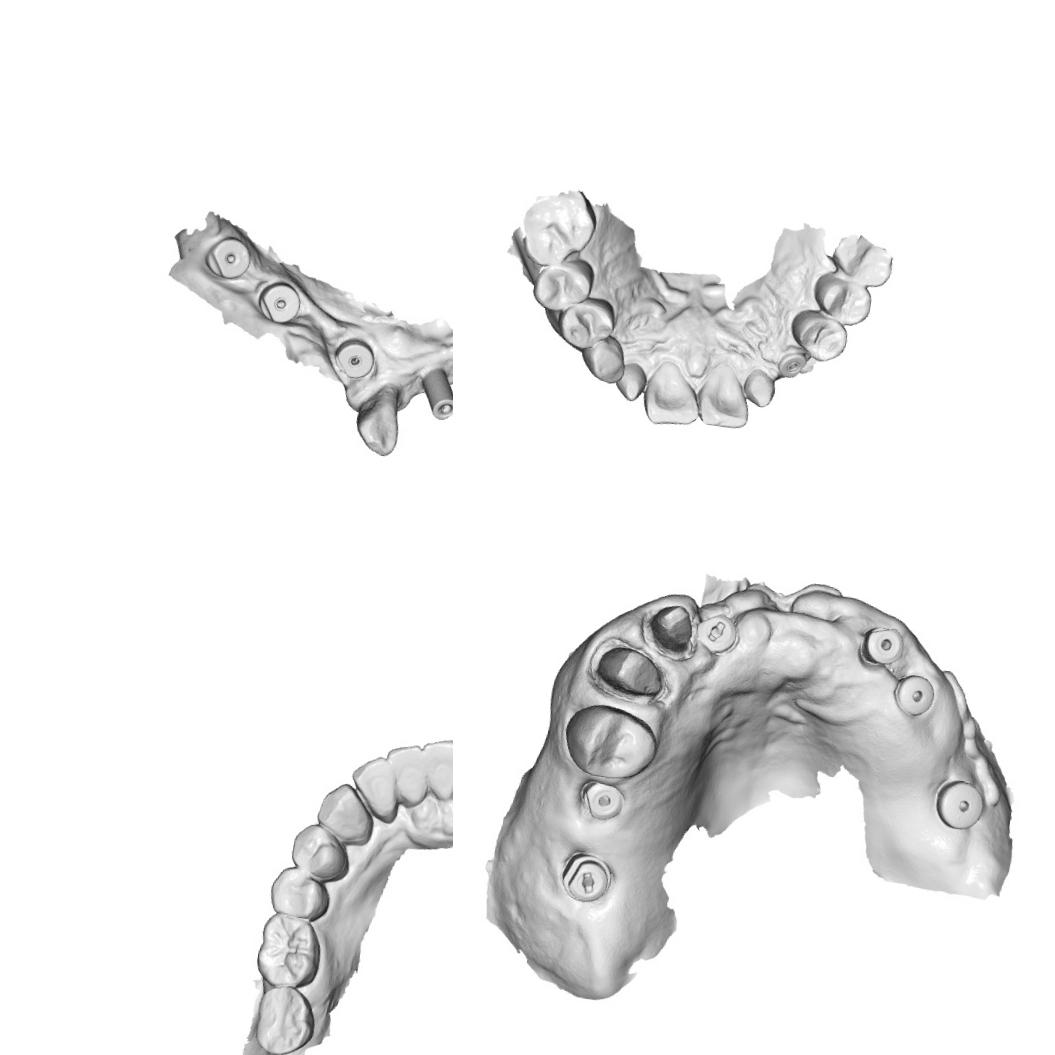canine: (312, 779, 379, 848), (350, 393, 404, 460), (576, 331, 628, 386)
crown: (587, 639, 672, 708), (640, 597, 700, 660)
implant: (931, 775, 988, 832), (855, 620, 910, 672), (202, 232, 255, 283), (412, 362, 453, 423), (254, 278, 304, 327), (891, 670, 939, 721), (330, 335, 379, 381), (581, 780, 628, 824), (774, 350, 808, 380)
implant_minus: (558, 850, 617, 903), (694, 610, 742, 659)
incisor: (638, 358, 706, 431), (344, 751, 406, 826), (691, 359, 755, 430), (380, 741, 432, 810), (415, 735, 453, 803), (741, 366, 778, 410), (612, 360, 649, 404)
molar: (516, 184, 602, 274), (252, 910, 326, 992), (251, 982, 321, 1055), (828, 230, 898, 292)
premolar: (555, 697, 664, 787), (288, 820, 354, 887), (528, 252, 596, 316), (266, 862, 334, 923), (810, 268, 876, 329), (554, 292, 618, 354), (786, 306, 850, 364)
